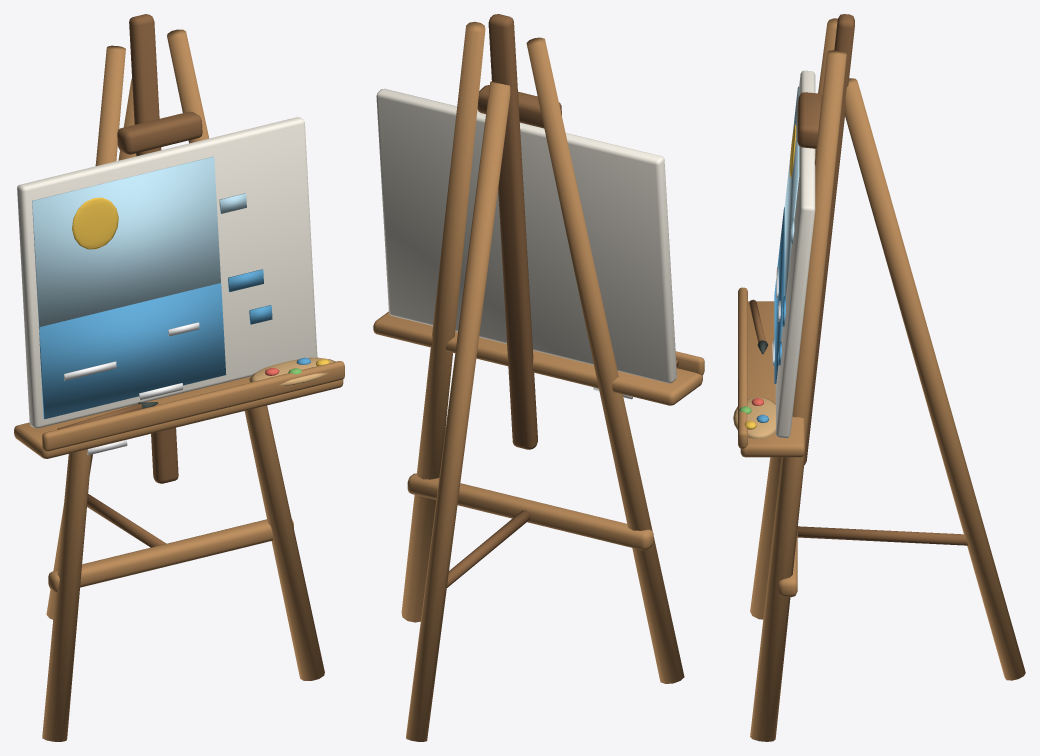
File: paint-easel.glb
3 renders of one model, left to right at view 1: azimuth 30°, elevation 25°; view 2: azimuth 150°, elevation 25°; view 3: azimuth 270°, elevation 25°, orthographic.
Visible parts, largest first — view 1: easel; view 2: easel; view 3: easel.
Boxes of the visible parts, box(x1,y1,x2,y2) form: easel: box(14, 14, 344, 741); easel: box(373, 14, 704, 741); easel: box(733, 14, 1025, 741).
Bounding box in the file's own units: 0.7 × 1.47 × 0.5913.
